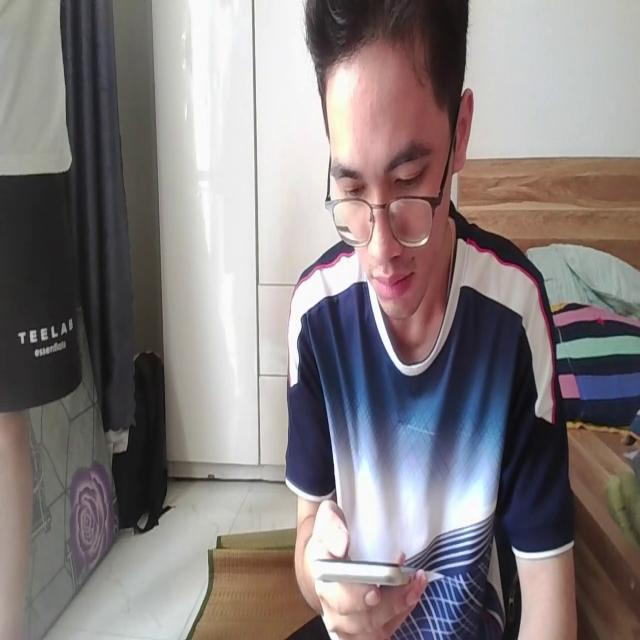book: (0, 0, 86, 640)
phone: (311, 538, 427, 596)
student: (279, 0, 575, 640)
